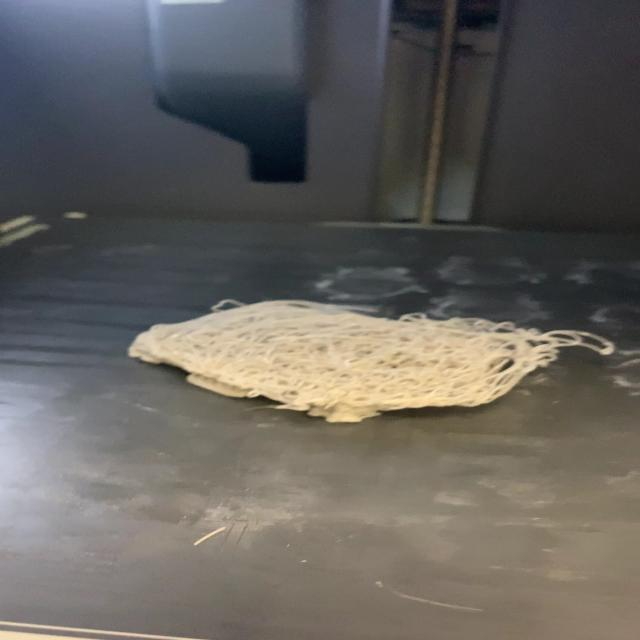spaghetti: (124, 295, 618, 425)
